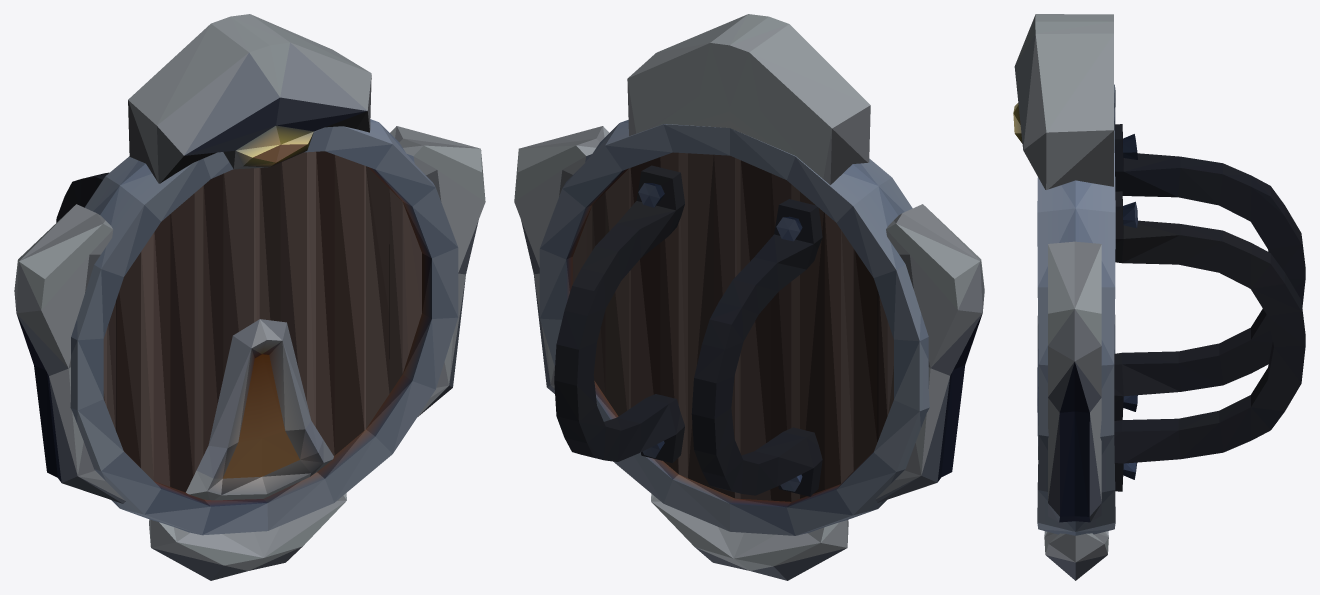
File: weapon_shield_silver_2.fbx
3 renders of one model, left to right at view 1: azimuth 30°, elevation 25°; view 2: azimuth 150°, elevation 25°; view 3: azimuth 270°, elevation 25°, orthographic.
Parts seen in each view (by area): view 1: weapon_shield_silver_2; view 2: weapon_shield_silver_2; view 3: weapon_shield_silver_2.
Boxes of the visible parts, x1,y1,x2,y2 form: weapon_shield_silver_2: (14, 14, 485, 580); weapon_shield_silver_2: (514, 14, 984, 580); weapon_shield_silver_2: (1013, 14, 1305, 580).
Bounding box in the file's own units: 0.803 × 0.8882 × 0.4345.
